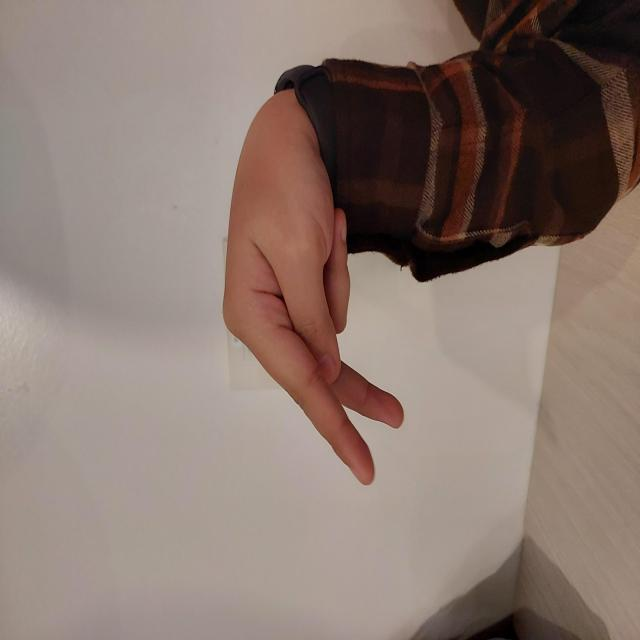P: (150, 218, 559, 408)
